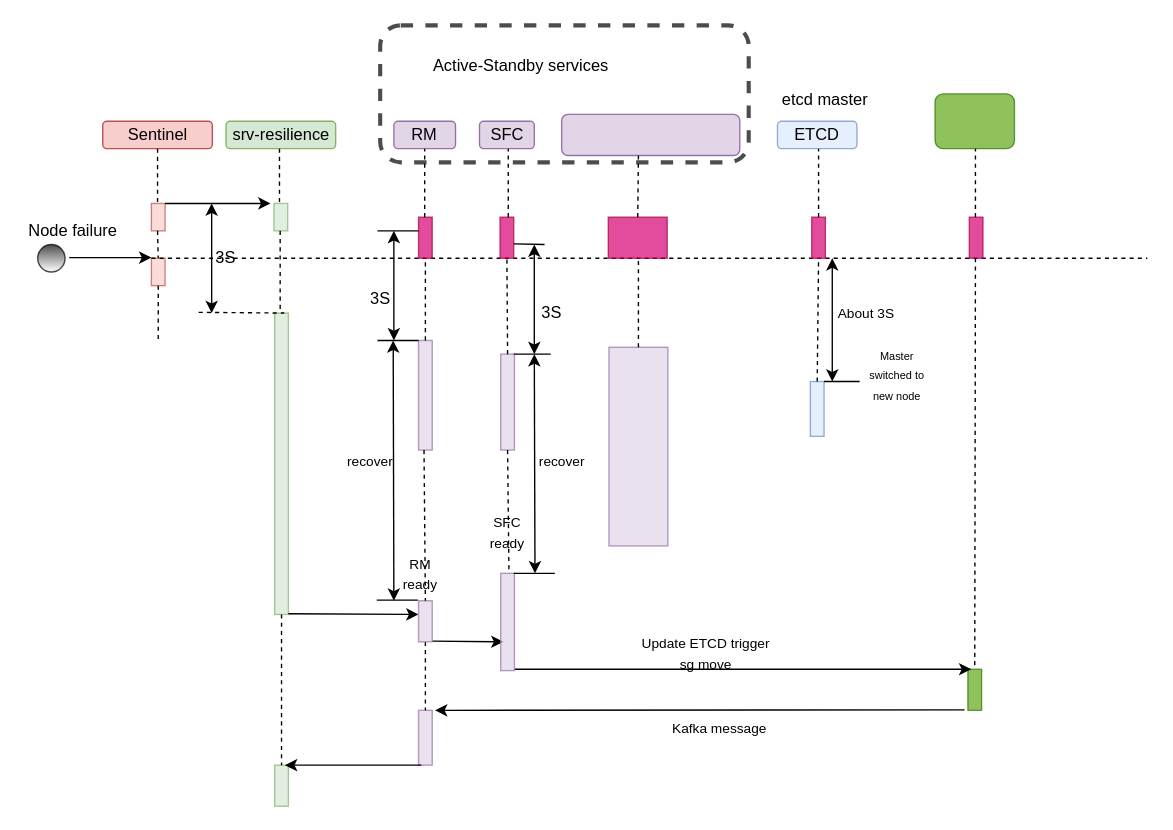
This 1173x830 diagram has some shape labels left out. The box of each missing label's shape, as (x1, y1, x2, y2) in pixels:
rphyman, telemetry...: (560, 113, 740, 155)
SG based services: (934, 92, 1014, 149)
